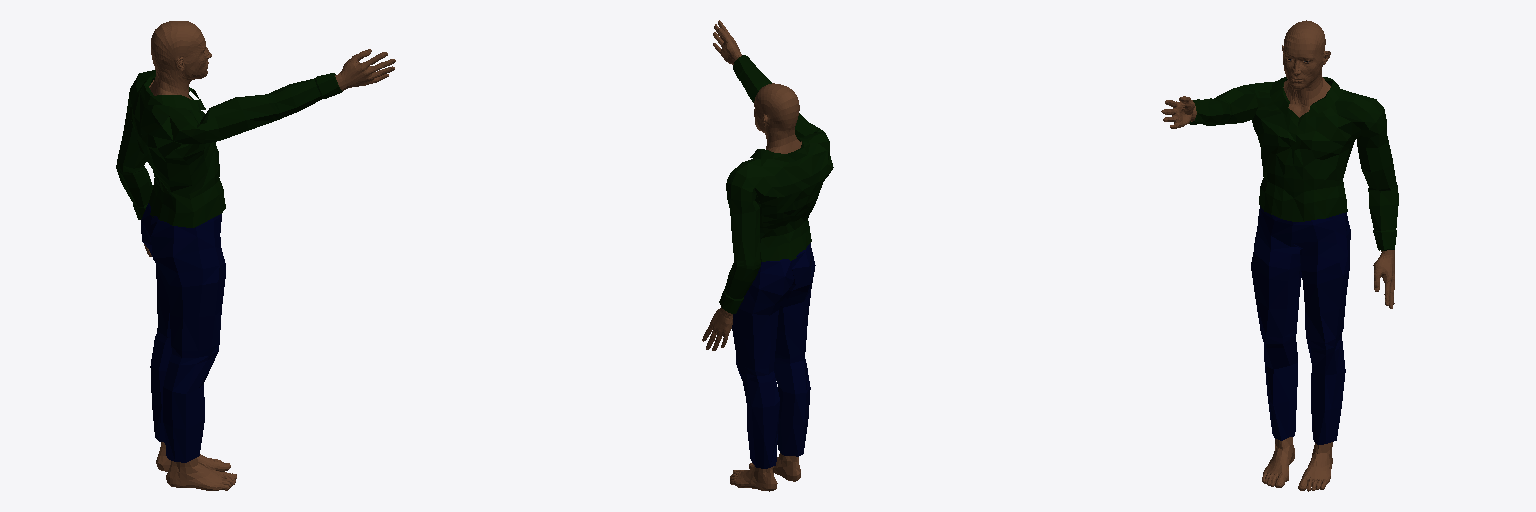
robot.urdf — human:
 <robot name="human">
  <link name="base_link">
<!-- name="body" -->
    <visual>
      <origin rpy="0 0 1.3" xyz="0.15 0 0"/>
      <geometry>
        <mesh filename="package://alpine_scenario/models/posedae.dae"/>
      </geometry>
    </visual>
    <collision>
     <geometry>
       <mesh filename="package://alpine_scenario/models/posedae.dae"/>
     </geometry>
     <origin rpy="0 0 0" xyz="0 0 0" />
    </collision>
   <inertial>
     <mass value="1" />
	<inertia ixx="1.0" ixy="0.0" ixz="0.0" iyy="1.0" iyz="0.0" izz="1.0" />
   </inertial>
   </link>

 <gazebo>
     <static>true</static>
   </gazebo>

</robot>

--- What the picture shows (computed from the rendered views, not written in the file) ---
3 views of the same robot in one strip: view 1: azimuth 30°, elevation 25°; view 2: azimuth 150°, elevation 25°; view 3: azimuth 270°, elevation 25° (orthographic).
Model human with 1 links and 0 joints (none), rooted at base_link, posed all joints at 0.
Visible links, largest first — view 1: base_link; view 2: base_link; view 3: base_link.
Boxes of the visible links, x1,y1,x2,y2 form: base_link: [116, 21, 395, 490]; base_link: [702, 20, 833, 491]; base_link: [1161, 20, 1398, 491].
Size in the robot's own frame: 0.9094 by 1.03 by 2.13 metres.
Meshes: 1 distinct files referenced, 1 mesh visuals loaded (1 Collada DAE).